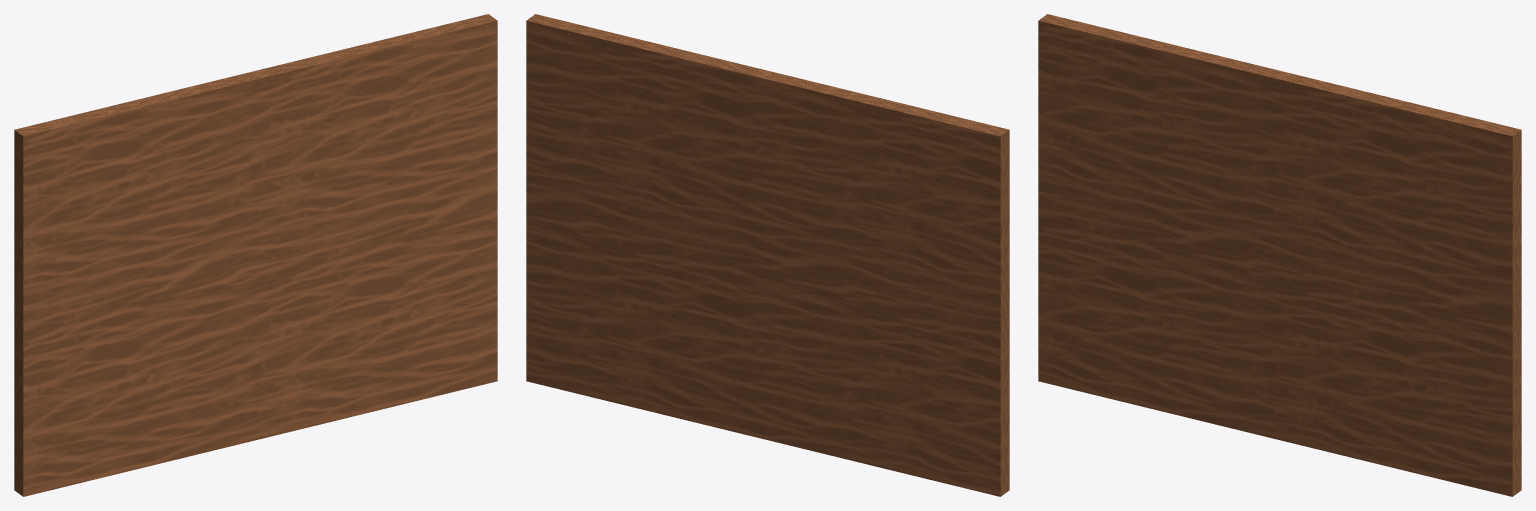
Rendered from BasicWall_Full.fbx.
The picture shows the model from 3 angles, left to right: view 1: azimuth 30°, elevation 25°; view 2: azimuth 150°, elevation 25°; view 3: azimuth 330°, elevation 25°; orthographic projection.
Parts seen in each view (by area): view 1: BasicWall_Full; view 2: BasicWall_Full; view 3: BasicWall_Full.
Boxes of the visible parts, x1,y1,x2,y2 form: BasicWall_Full: (14,14,497,496); BasicWall_Full: (526,14,1009,496); BasicWall_Full: (1038,14,1521,496).
Size of the model in its own units: 330 by 240 by 11.01.
